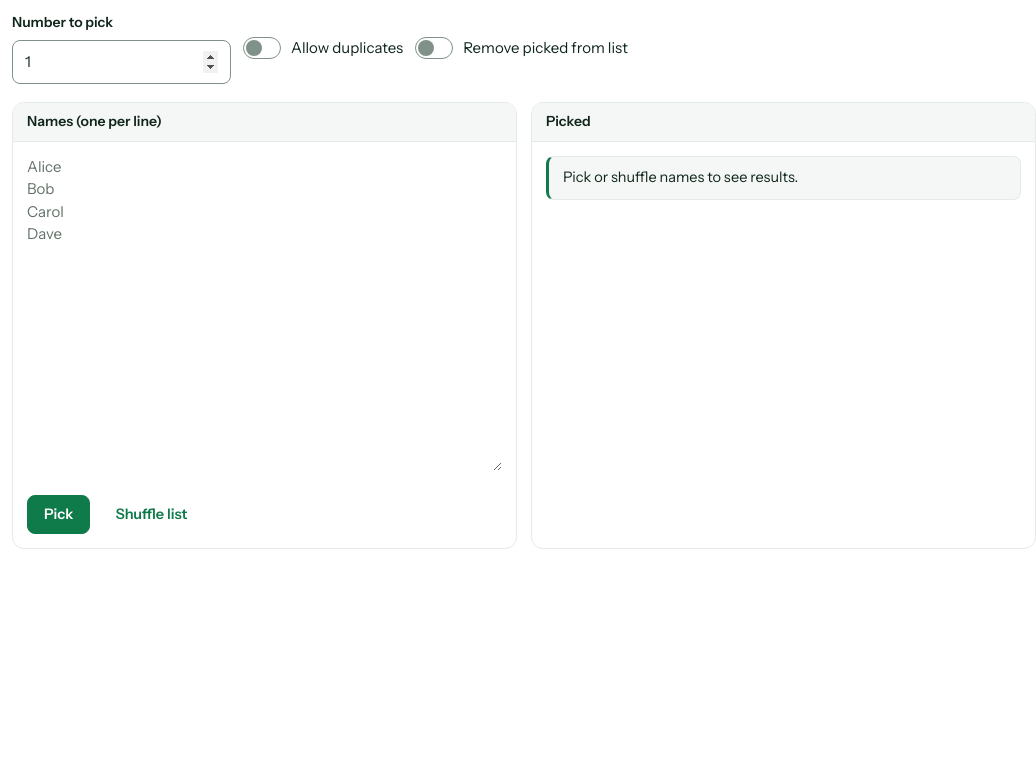
Test: RandomNamePicker › empty list on shuffle → shows error
Click the button "Shuffle list": (151, 514) 98,495 -> 204,534
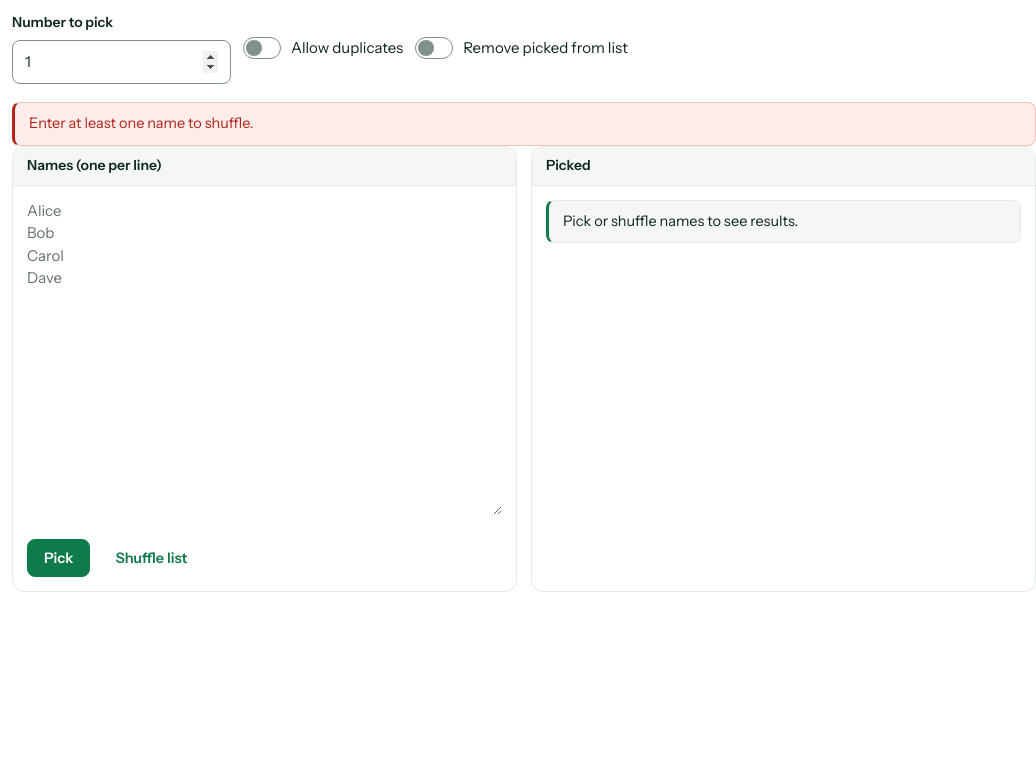
Expected: the text "Enter at least one name to shuffle." is shown, 12,102 -> 1035,146
